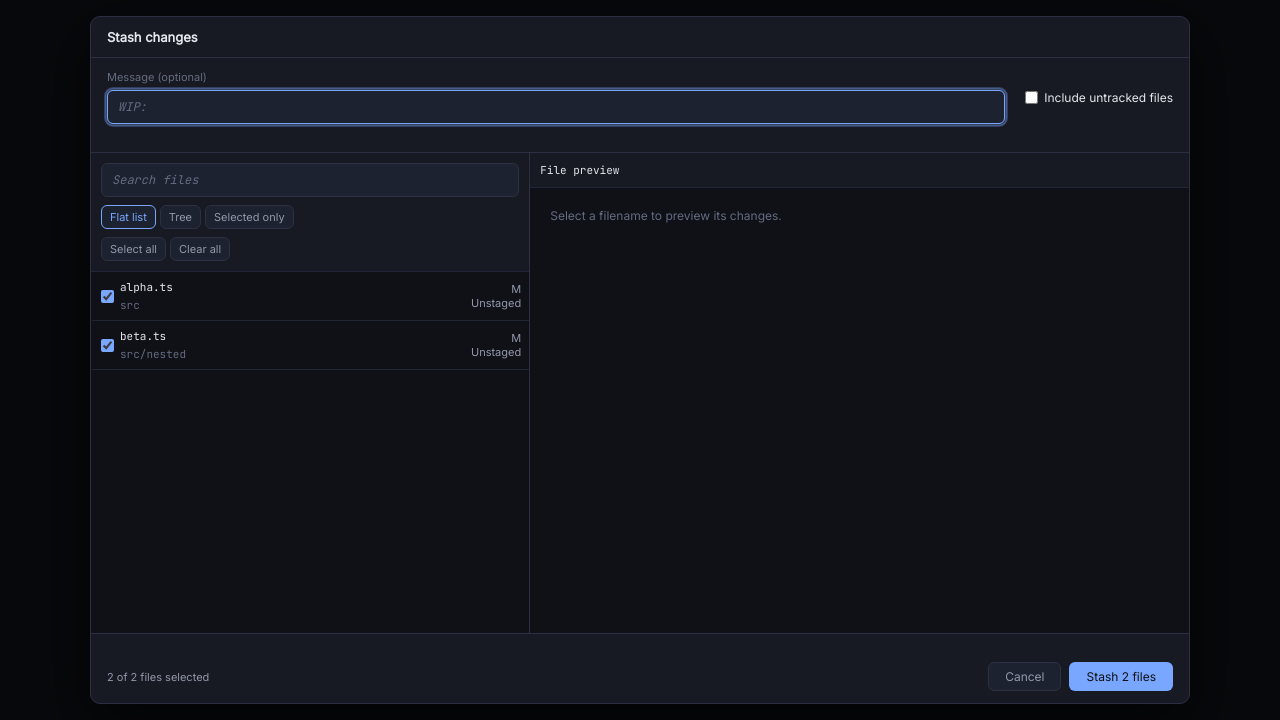
StashPushDialog › supports tree folder mixed selections
expect the text "2 of 2 files selected" is shown: met, box [107,670,209,684]
Click the button "Tree".
click(180, 217)  # box [160,205,201,229]
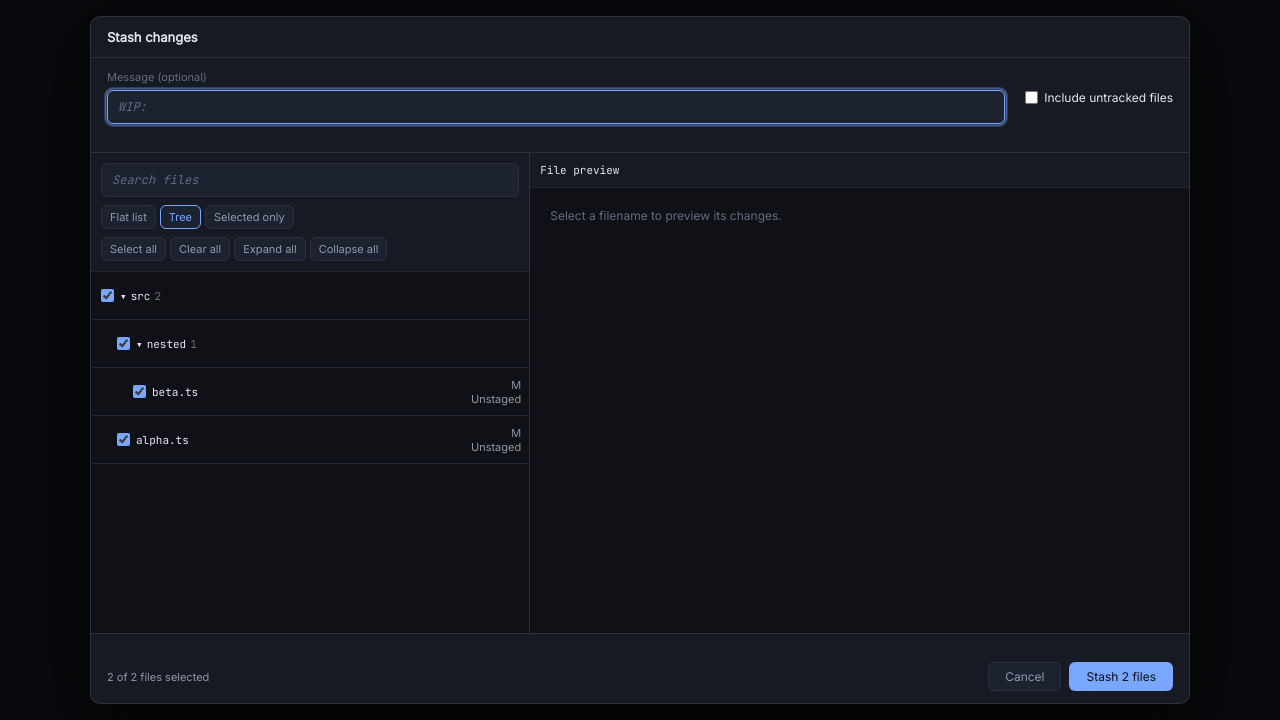
Click the checkbox named "Include src/alpha.ts".
click(124, 440)  # box [117,433,130,446]
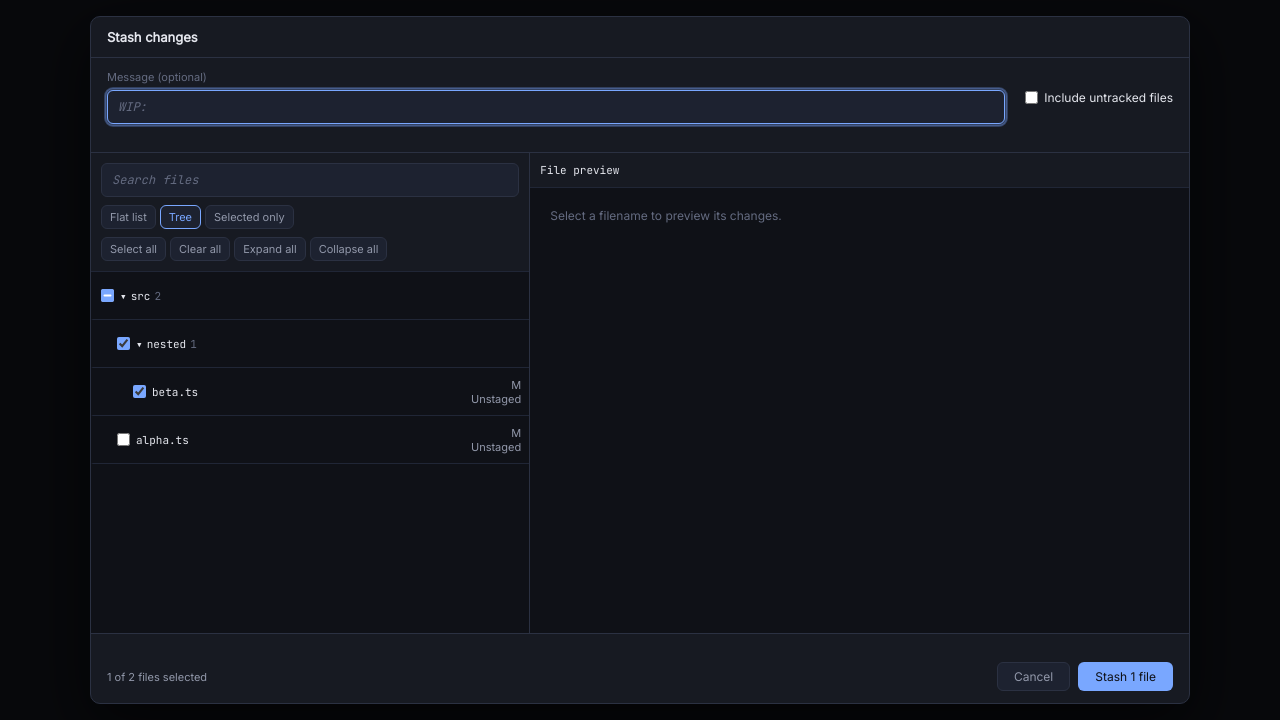
expect the checkbox named "Include folder src" is not checked: met
Click the checkbox named "Include folder src".
click(108, 296)  # box [101,289,114,302]
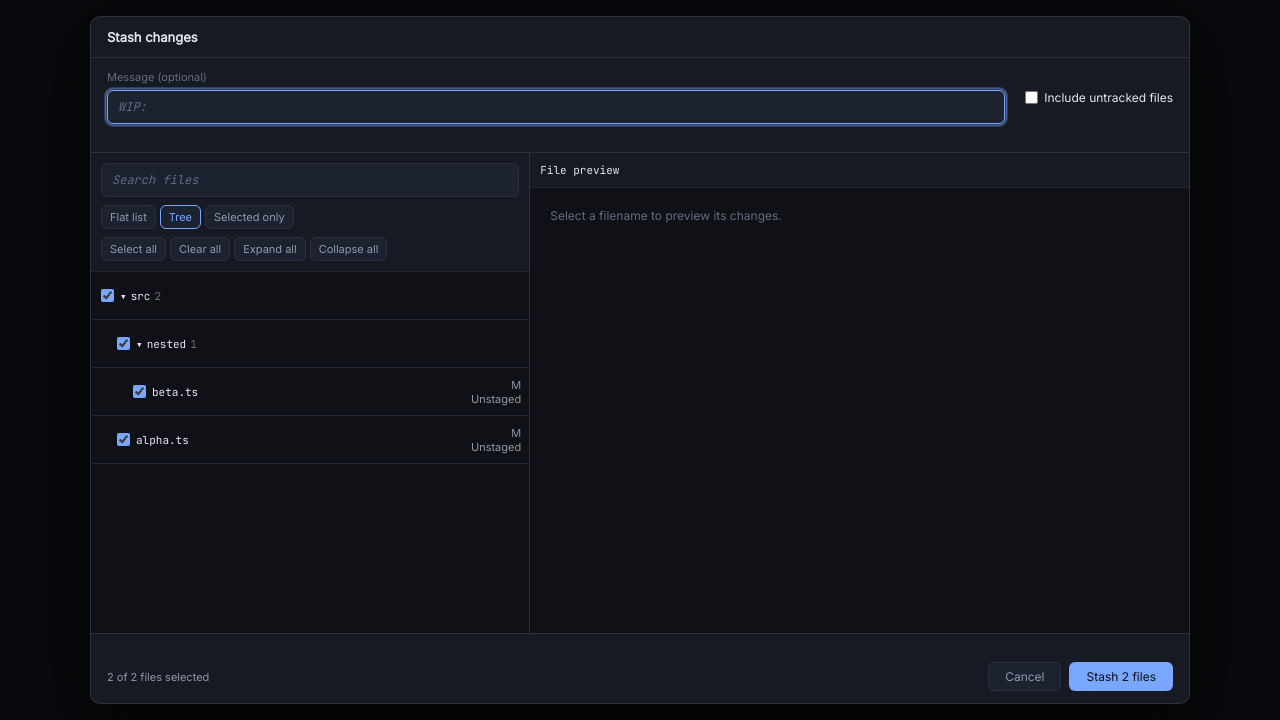
expect the text "2 of 2 files selected" is shown: met, box [107,670,209,684]
